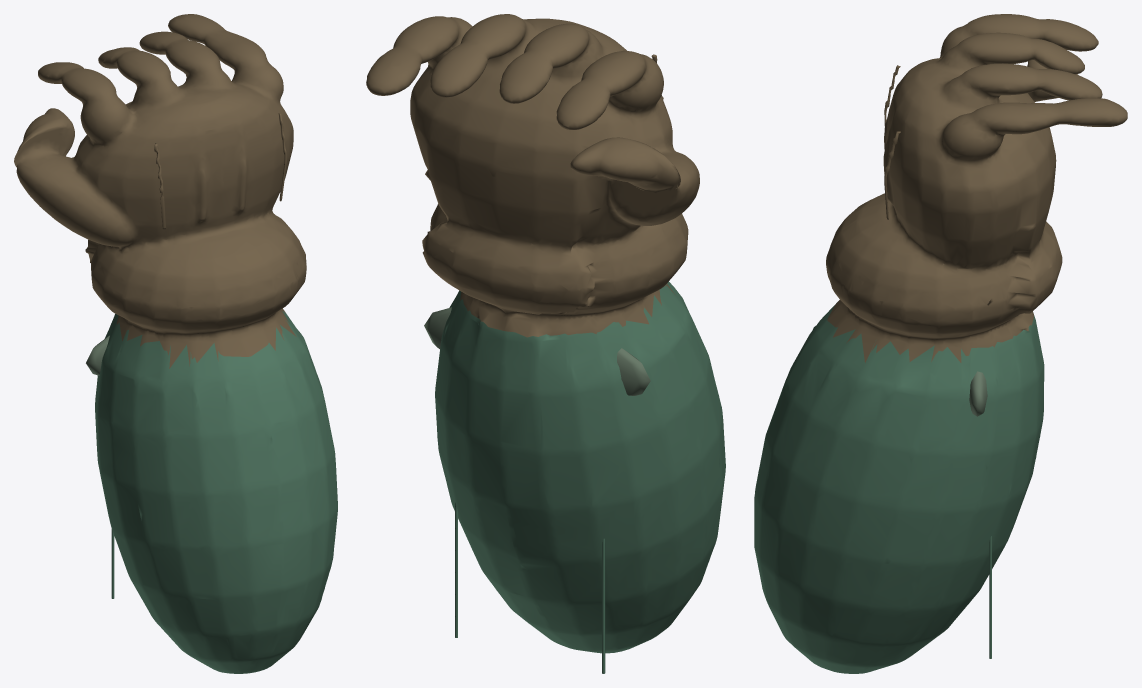
The model's file is ranger_grip_bottle.glb.
3 renders of one model, left to right at view 1: azimuth 30°, elevation 25°; view 2: azimuth 150°, elevation 25°; view 3: azimuth 270°, elevation 25°, orthographic. The views are drawn at different scales.
Parts seen in each view (by area): view 1: Continuous right glove and forearm.001; view 2: Continuous right glove and forearm.001, Cuff fastener.002, Fine cuff stitching.002; view 3: Continuous right glove and forearm.001, Cuff fastener.002.
Part boxes in pixels (x1,y1,x2,y2): Continuous right glove and forearm.001: [14, 14, 337, 673]; Continuous right glove and forearm.001: [366, 14, 725, 653]; Cuff fastener.002: [424, 307, 650, 395]; Fine cuff stitching.002: [602, 538, 605, 673]; Continuous right glove and forearm.001: [754, 14, 1127, 673]; Cuff fastener.002: [969, 371, 987, 416].
Size of the model in its own units: 0.1401 by 0.3085 by 0.1696.
